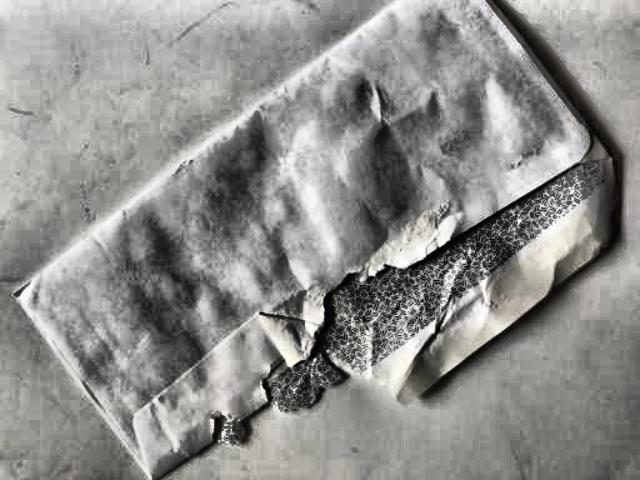Paper: (1, 0, 640, 480)
